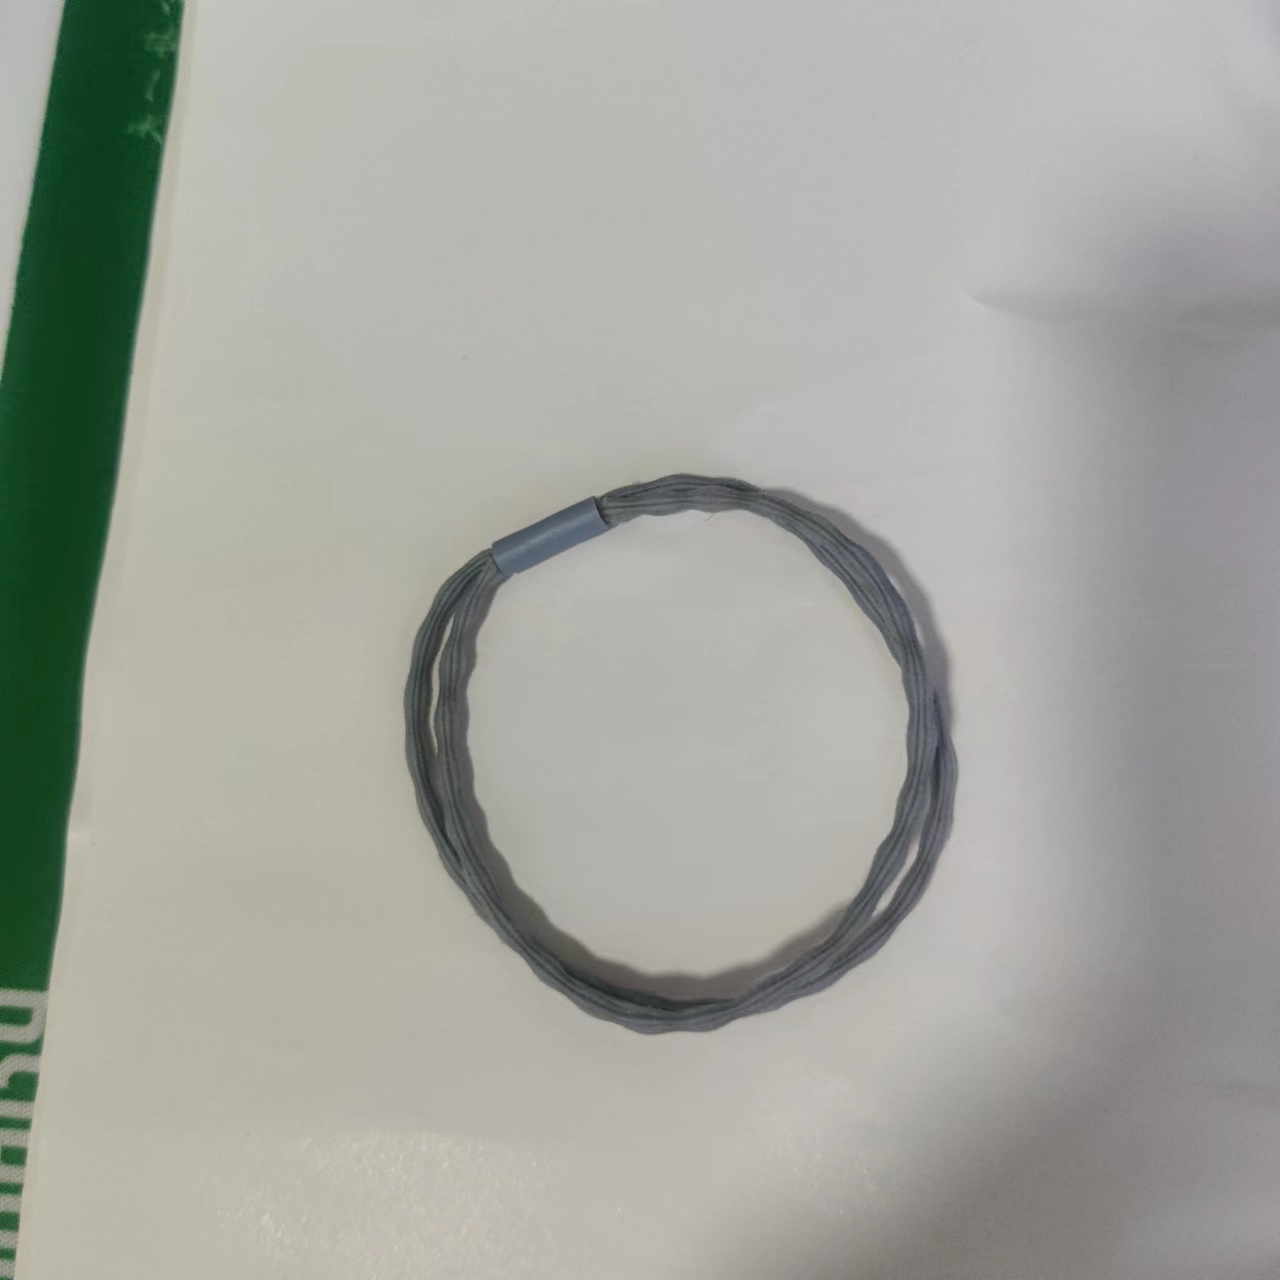9/可回收垃圾/绳子: (402, 472, 958, 1039)
